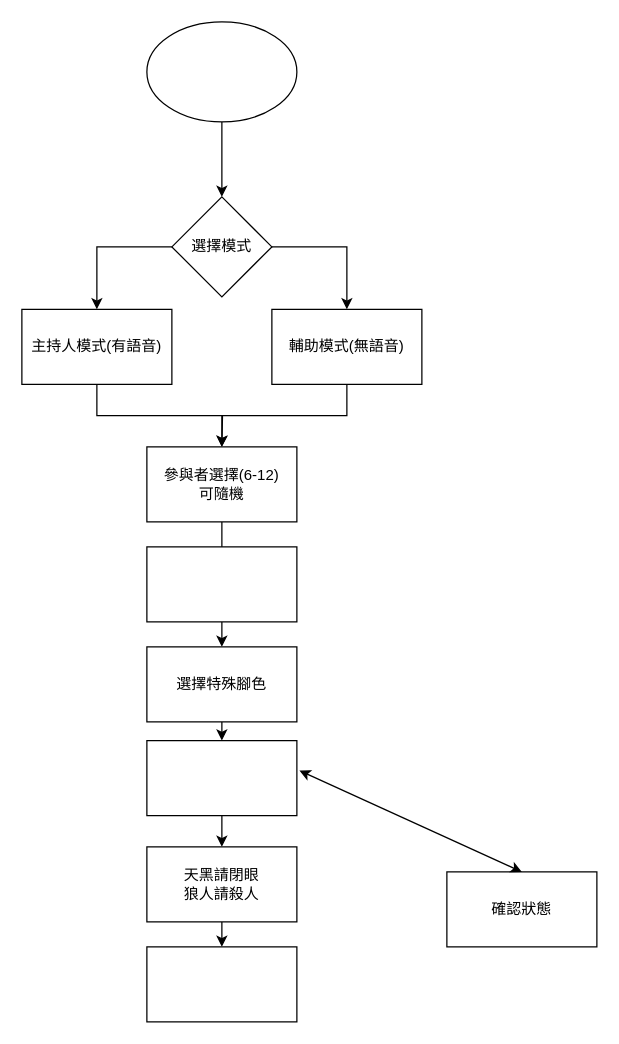
The diagram is 619 pixels wide and 1044 high, and some of its shapes have lost their labels. The centre of each missing label's shape, as x and y in pixels:
參與者調整: point (221, 584)
展示身份: point (221, 777)
確認女巫使用技能意願: point (221, 984)
開始: point (221, 71)
